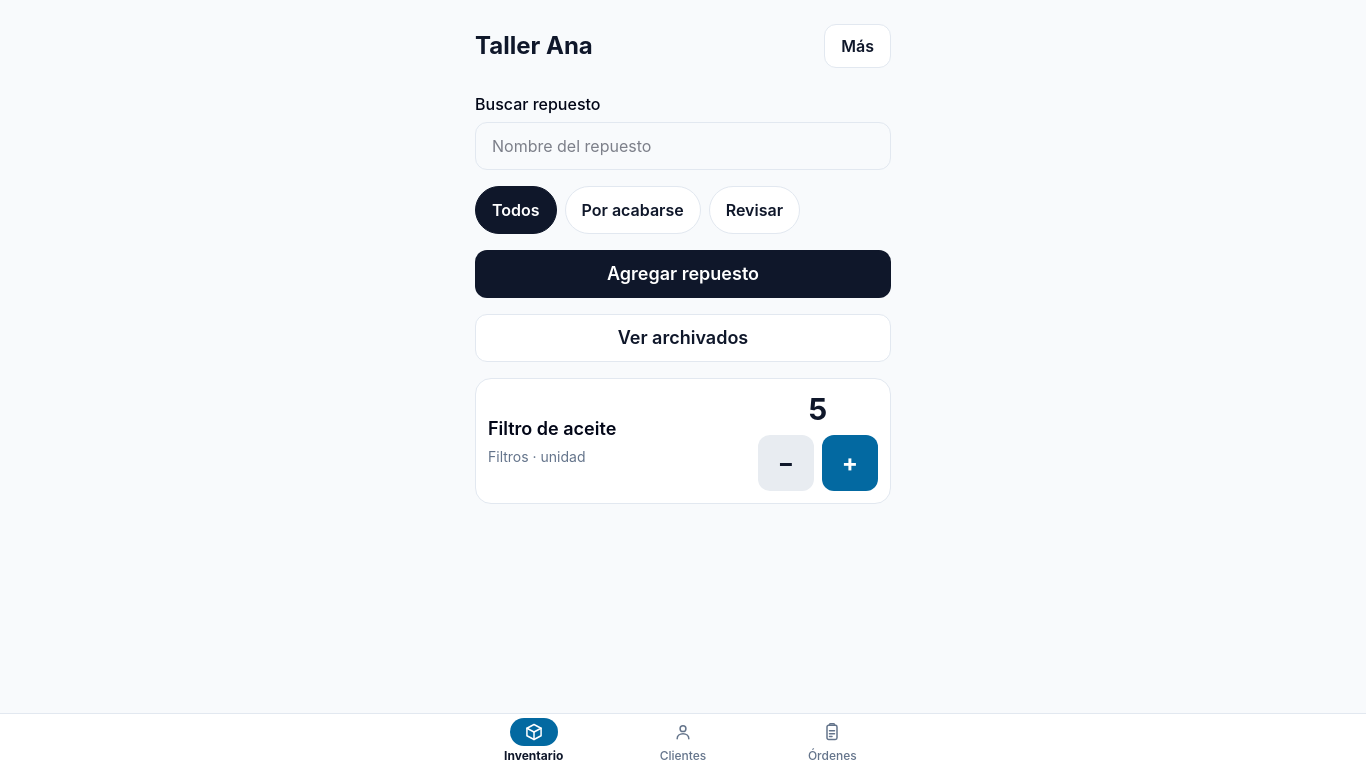
Test case: InventoryPage › increments stock optimistically and sends a PUT with a fresh movement id
The image size is (1366, 768).
Expected: the text "5" is shown, [808,391,828,427]
Click the button named "Agregar una unidad de Filtro de aceite".
click(850, 463)  # box [822,435,878,491]
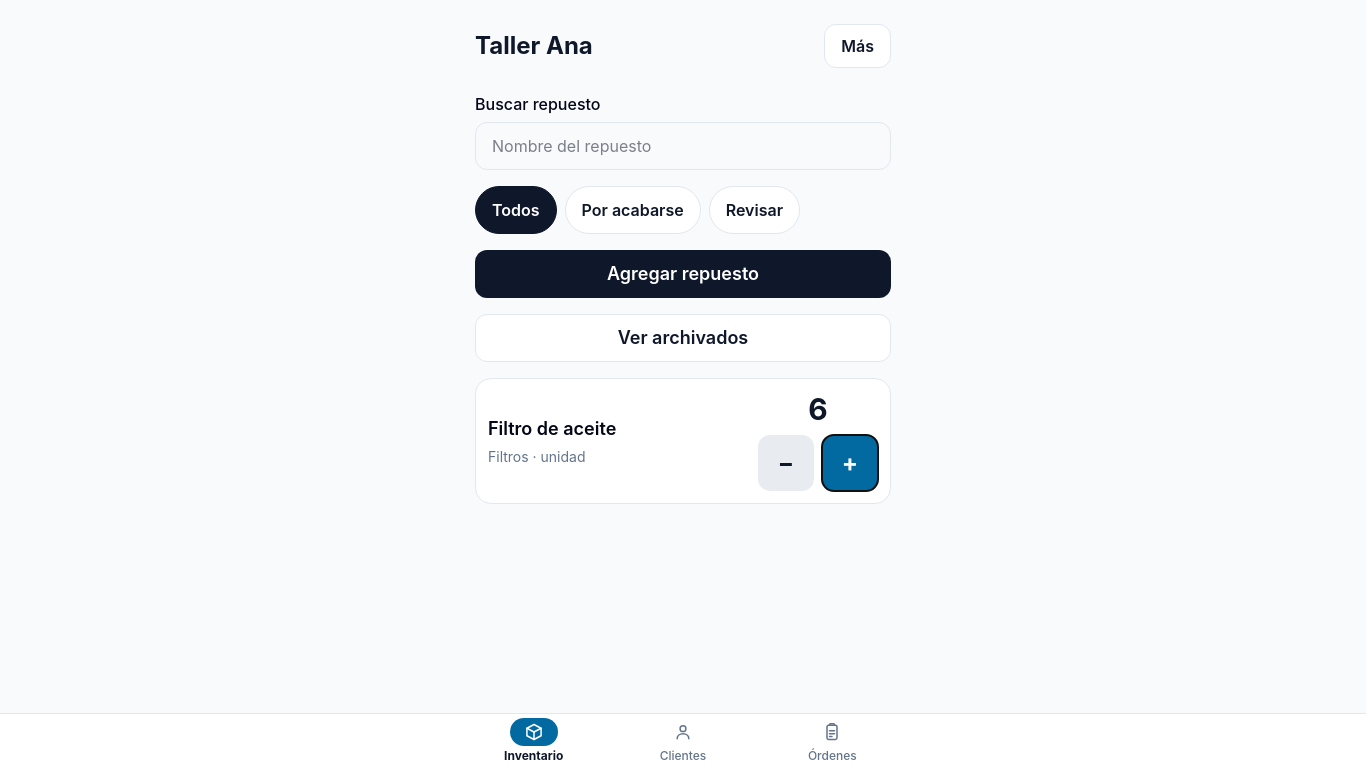
Expected: the text "6" is shown, [808,391,828,427]
